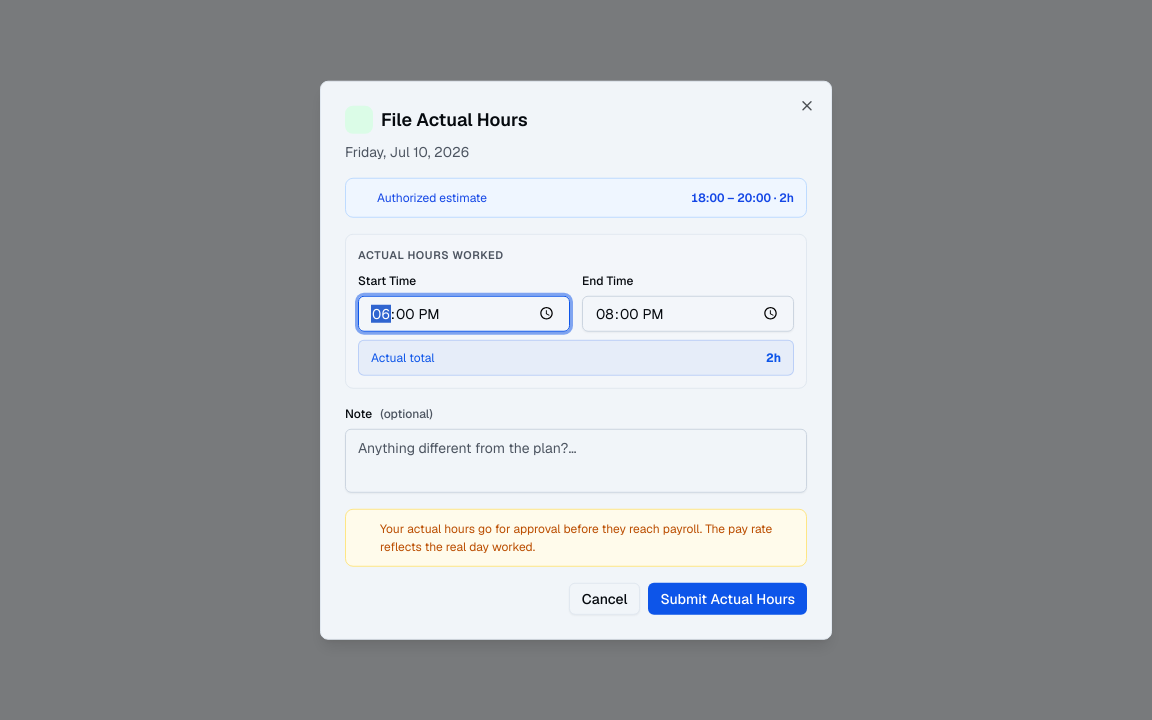
Test: OvertimeClaimDialog — validation › flags a range shorter than the minimum overtime hour
Replace the text in the time field below "End Time" with "18:30" at (688, 313), box [582,295,794,331]
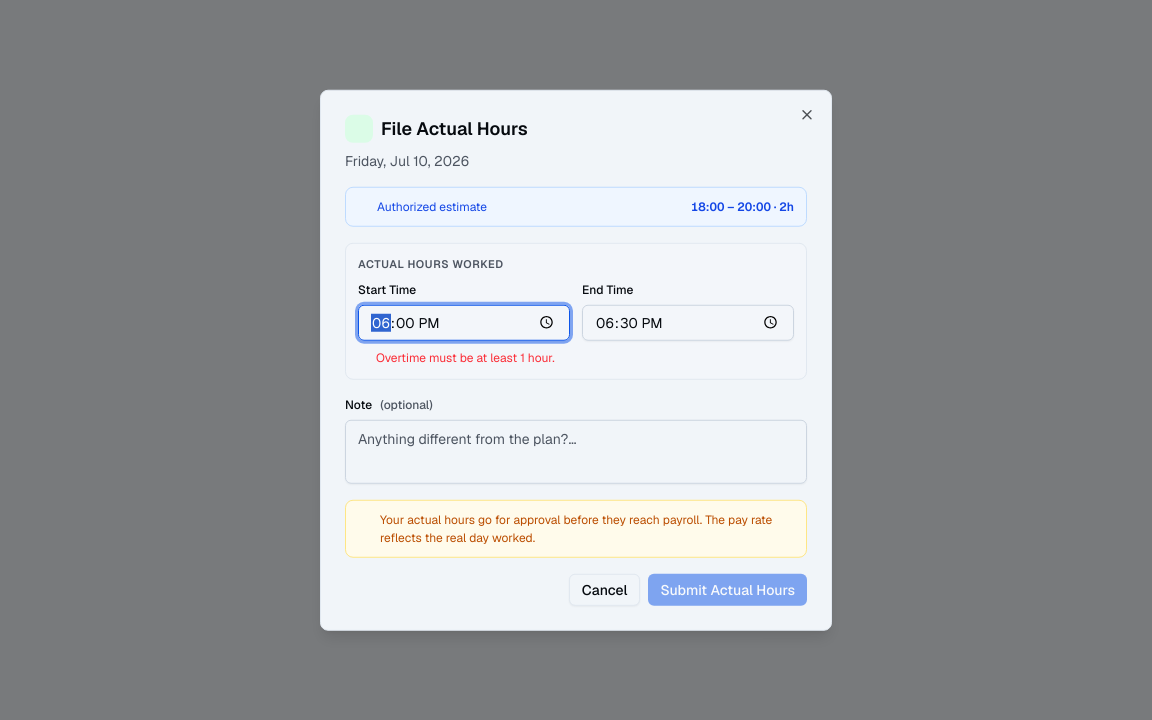
Expected: the text "Overtime must be at least 1 hour." is shown, [376,349,554,365]
